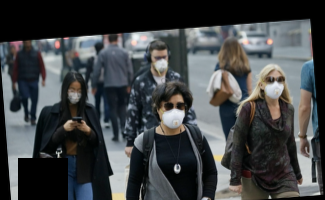with_mask: (161, 99, 188, 129), (152, 52, 170, 74), (67, 85, 84, 104)
